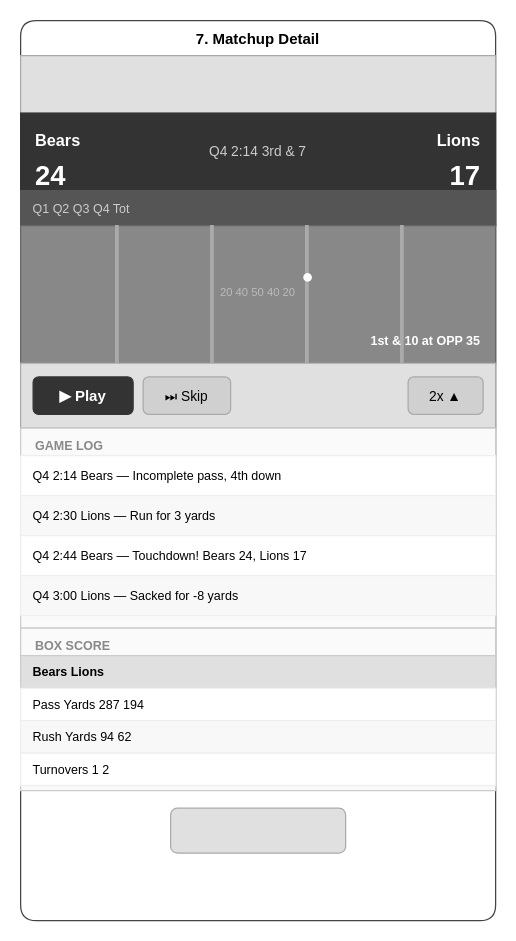
This 516x941 diagram has some shape labels left out. The shapes that lost their labels are listed below. From the top down, each one's centre as x and y in pixels, then its label:
At point (257, 83): "← Schedule Wk 1: Bears vs Lions".
At point (257, 830): "⬆ Export Replay".
